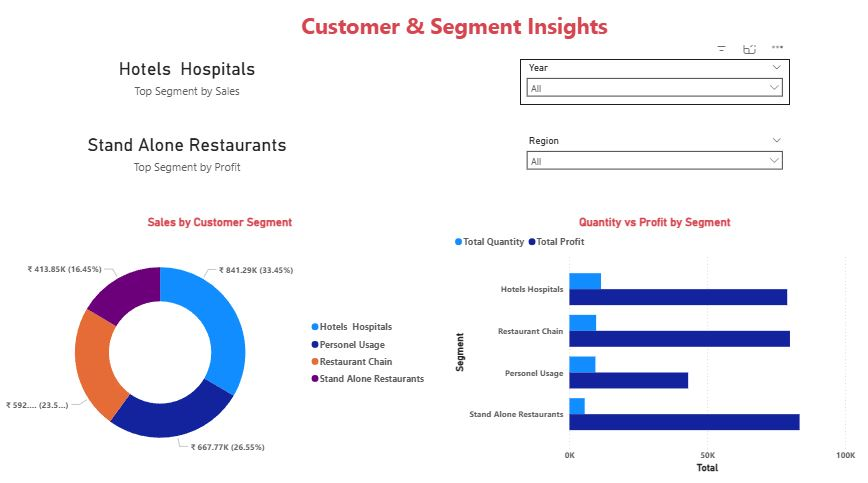

The dashboard page shown, as its layout file describes it:
{"tool":"powerbi","page":{"name":"Customers","canvas":[1280,720],"ordinal":2},"visuals":[{"type":"donutChart","title":"Sales by Customer Segment","fields":{"Category":["Dim_Customer.Segment"],"Y":["Measure.Total Sales"]},"box":[11.8,323.3,628.9,385],"z":0},{"type":"clusteredBarChart","title":"Quantity vs Profit by Segment","fields":{"Category":["Dim_Customer.Segment"],"Y":["Measure.Total Quantity","Measure.Total Profit"]},"box":[665.6,323.3,599.5,385],"z":1000},{"type":"card","fields":{"Values":["Measure.Top Segment by Sales"]},"box":[51.3,73.5,452.9,88.9],"z":2000},{"type":"card","fields":{"Values":["Measure.Top Segment by Profit"]},"box":[51.3,186.3,452.9,85.4],"z":3000},{"type":"slicer","fields":{"Values":["Dim_Date.Year"]},"box":[767.3,94,396.5,68.4],"z":4000},{"type":"slicer","fields":{"Values":["Dim_Geography.Region"]},"box":[767.3,201.7,396.5,70.1],"z":5000},{"type":"textbox","box":[42.6,17.6,1190.2,55.8],"z":6000}]}

Visuals, with their boxes in screenshot pixels (x1, y1, x2, y2), scaled from the page's 1280x720 canvas onto the 868x483 screenshot:
"Sales by Customer Segment" donutChart: box(8, 217, 434, 475)
"Quantity vs Profit by Segment" clusteredBarChart: box(451, 217, 858, 475)
card - Measure.Top Segment by Sales: box(35, 49, 342, 109)
card - Measure.Top Segment by Profit: box(35, 125, 342, 182)
slicer - Dim_Date.Year: box(520, 63, 789, 109)
slicer - Dim_Geography.Region: box(520, 135, 789, 182)
textbox: box(29, 12, 836, 49)
